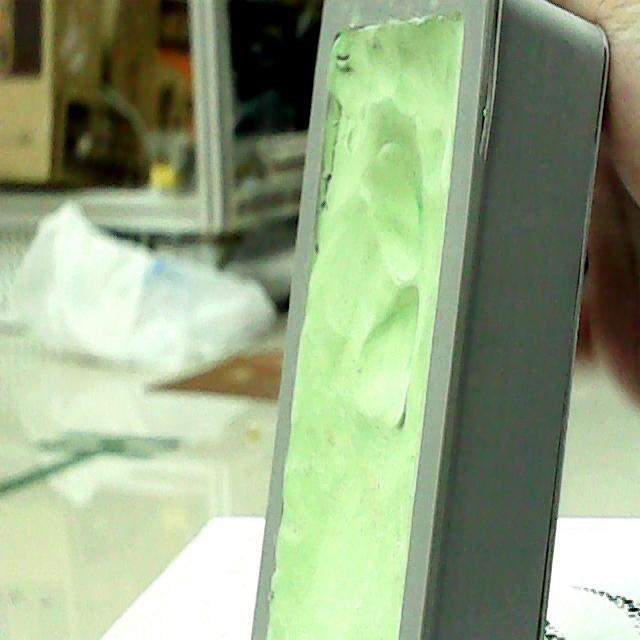block: (240, 0, 610, 639)
